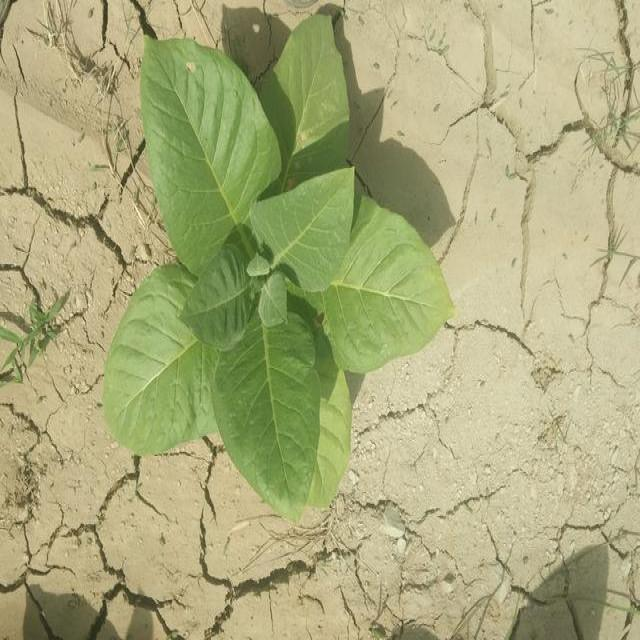crop: (100, 29, 450, 514)
